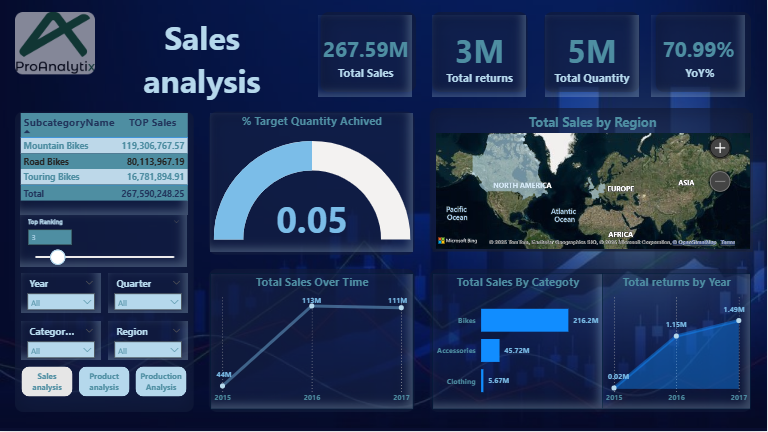

This screenshot's page, from the dashboard's own definition file:
{"tool":"powerbi","page":{"name":"Sales analysis","canvas":[1280,720],"ordinal":0},"visuals":[{"type":"lineChart","title":"Total Sales Over Time","fields":{"Category":["Fact_Sales.OrderDate.Variation.Date Hierarchy.Year","Fact_Sales.OrderDate.Variation.Date Hierarchy.Quarter","Fact_Sales.OrderDate.Variation.Date Hierarchy.Month","Fact_Sales.OrderDate.Variation.Date Hierarchy.Day"],"Y":["_Measures_Sales Performance Analysise._Total_Sales"]},"box":[352,458,338,226],"z":0},{"type":"barChart","title":"Total Sales By Categoty","fields":{"Category":["Fact_Sales.CategoryName"],"Y":["_Measures_Sales Performance Analysise._Total_Sales"]},"box":[722,458,284,226],"z":1000},{"type":"card","fields":{"Values":["_Measures_Sales Performance Analysise._Total_Sales"]},"box":[533.3,28.3,156.7,136],"z":2000},{"type":"card","fields":{"Values":["_Measures_Sales Performance Analysise.Total_Quantity"]},"box":[910,27.5,156,136],"z":3000},{"type":"areaChart","fields":{"Category":["Fact_Sales.ReturnDate.Variation.Date Hierarchy.Year","Fact_Sales.ReturnDate.Variation.Date Hierarchy.Quarter","Fact_Sales.ReturnDate.Variation.Date Hierarchy.Month","Fact_Sales.ReturnDate.Variation.Date Hierarchy.Day"],"Y":["_Measures_Sales Performance Analysise.Total returns"]},"box":[1006,458,248,226],"z":4000},{"type":"gauge","title":"% Target Quantity Achived","fields":{"Y":["_Measures_Sales Performance Analysise.% Target Achieved"]},"box":[352,190,338,232],"z":6000},{"type":"card","fields":{"Values":["_Measures_Sales Performance Analysise.Total returns"]},"box":[722.7,26.4,156.4,136],"z":7000},{"type":"filledMap","fields":{"Category":["Fact_Sales.Region"],"Y":["_Measures_Sales Performance Analysise._Total_Sales"]},"box":[722,190,534,232],"z":8000},{"type":"card","fields":{"Values":["_Measures_Sales Performance Analysise._Total_Sales YoY%"]},"box":[1088,28,156,136],"z":9000},{"type":"slicer","fields":{"Values":["Fact_Sales.OrderDate.Variation.Date Hierarchy.Year"]},"box":[37.6,458.5,132,65.4],"z":10000},{"type":"slicer","fields":{"Values":["Fact_Sales.OrderDate.Variation.Date Hierarchy.Quarter"]},"box":[183,458.5,132.3,65.4],"z":11000},{"type":"slicer","fields":{"Values":["Fact_Sales.CategoryName"]},"box":[37.6,537.7,132,63.8],"z":12000},{"type":"slicer","fields":{"Values":["Fact_Sales.Region"]},"box":[183,537.7,132.3,63.8],"z":13000},{"type":"pageNavigator","box":[36.7,613.3,276.7,50],"z":14000},{"type":"slicer","fields":{"Values":["Top Ranking.Top Ranking"]},"box":[35.7,360,278.6,85.7],"z":14001},{"type":"tableEx","fields":{"Values":["Fact_Sales.SubcategoryName","_Measures_Sales Performance Analysise.TOPNRAN"]},"box":[35.7,190,280,170],"z":14002},{"type":"textbox","box":[170,21.7,336.7,168.3],"z":14003}]}

Visuals, with their boxes in screenshot pixels (x1, y1, x2, y2), scaled from the page's 1280x720 canvas onto the 768x432 screenshot:
"Total Sales Over Time" lineChart: crop(211, 275, 414, 410)
"Total Sales By Categoty" barChart: crop(433, 275, 604, 410)
card - _Measures_Sales Performance Analysise._Total_Sales: crop(320, 17, 414, 99)
card - _Measures_Sales Performance Analysise.Total_Quantity: crop(546, 16, 640, 98)
areaChart - Fact_Sales.ReturnDate.Variation.Date Hierarchy.Year x Fact_Sales.ReturnDate.Variation.Date Hierarchy.Quarter: crop(604, 275, 752, 410)
"% Target Quantity Achived" gauge: crop(211, 114, 414, 253)
card - _Measures_Sales Performance Analysise.Total returns: crop(434, 16, 527, 97)
filledMap - Fact_Sales.Region x _Measures_Sales Performance Analysise._Total_Sales: crop(433, 114, 754, 253)
card - _Measures_Sales Performance Analysise._Total_Sales YoY%: crop(653, 17, 746, 98)
slicer - Fact_Sales.OrderDate.Variation.Date Hierarchy.Year: crop(23, 275, 102, 314)
slicer - Fact_Sales.OrderDate.Variation.Date Hierarchy.Quarter: crop(110, 275, 189, 314)
slicer - Fact_Sales.CategoryName: crop(23, 323, 102, 361)
slicer - Fact_Sales.Region: crop(110, 323, 189, 361)
pageNavigator: crop(22, 368, 188, 398)
slicer - Top Ranking.Top Ranking: crop(21, 216, 189, 267)
tableEx - Fact_Sales.SubcategoryName x _Measures_Sales Performance Analysise.TOPNRAN: crop(21, 114, 189, 216)
textbox: crop(102, 13, 304, 114)
